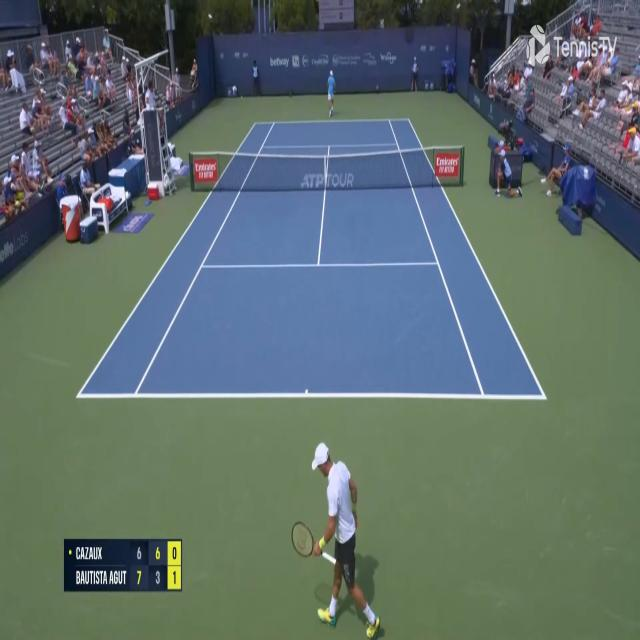tennis-player: (290, 437, 383, 628), (326, 68, 337, 117)
